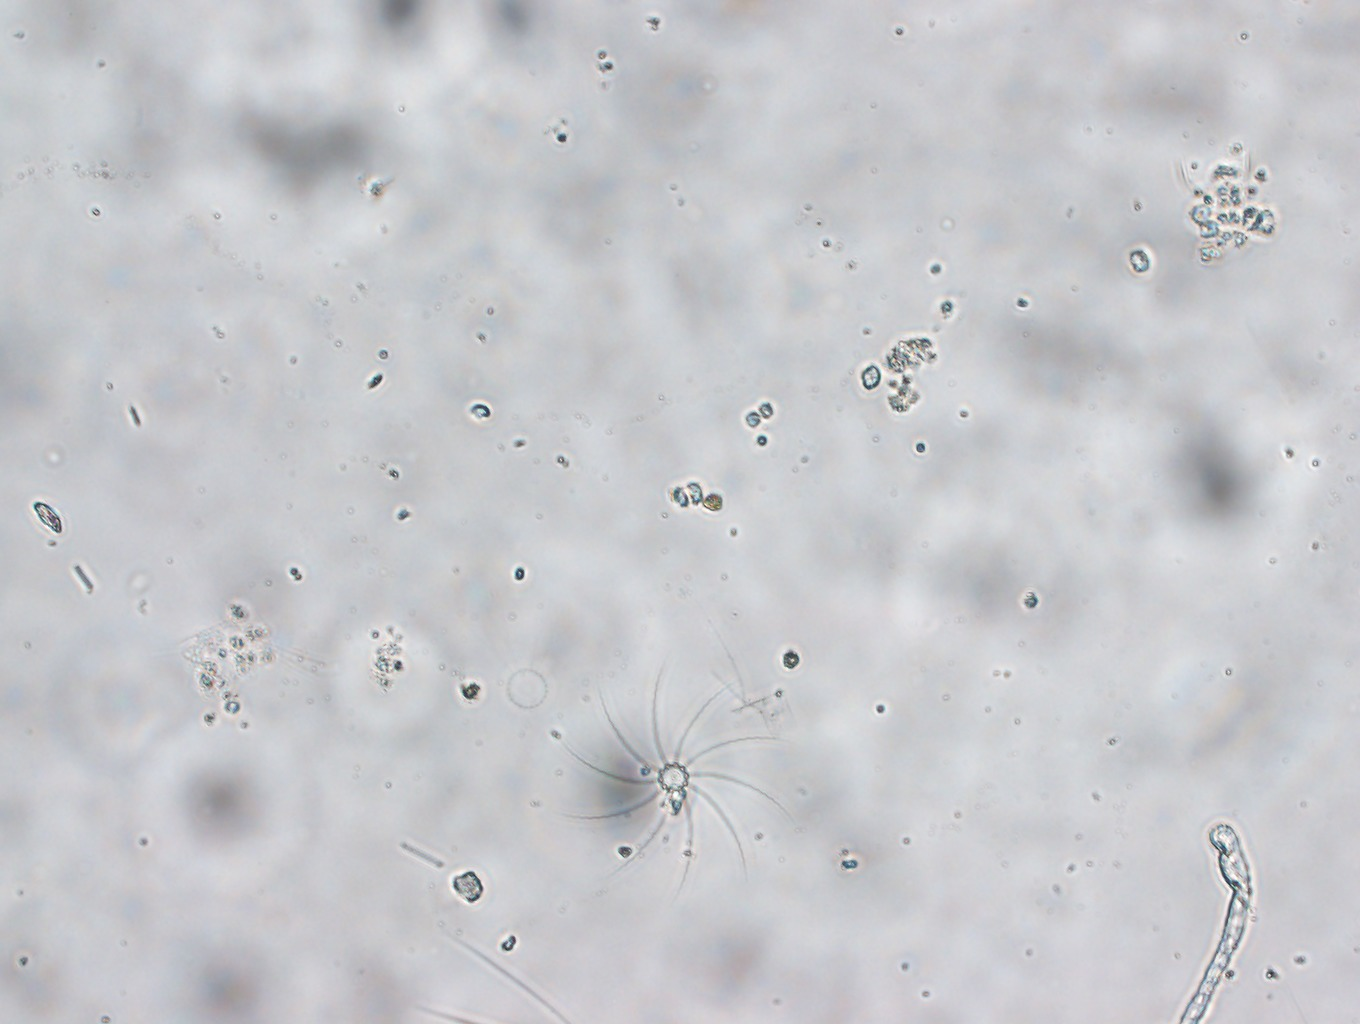bacteriastrum: (563, 666, 789, 894)
